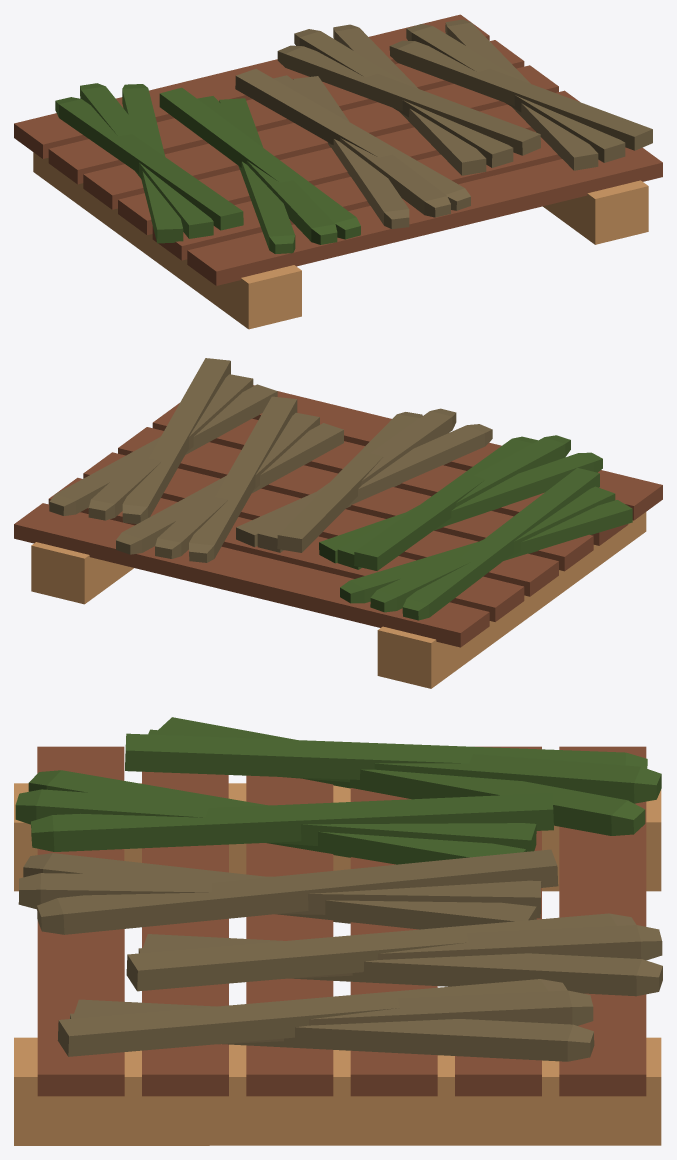
Rendered from drying_flax_2.fbx.
3 views of the same model, one above another, from view 1: azimuth 30°, elevation 25°; view 2: azimuth 150°, elevation 25°; view 3: azimuth 270°, elevation 25° (orthographic). The views are drawn at different scales.
Visible parts, largest first — view 1: dry_flax, pallet; view 2: dry_flax, pallet; view 3: dry_flax, pallet.
Boxes of the visible parts, x1,y1,x2,y2 form: dry_flax: (55, 19, 652, 253); pallet: (14, 14, 662, 329); dry_flax: (49, 358, 632, 620); pallet: (14, 385, 662, 688); dry_flax: (15, 717, 662, 1061); pallet: (14, 746, 661, 1145).
Size of the model in its own units: 65.74 by 11.43 by 53.22.
